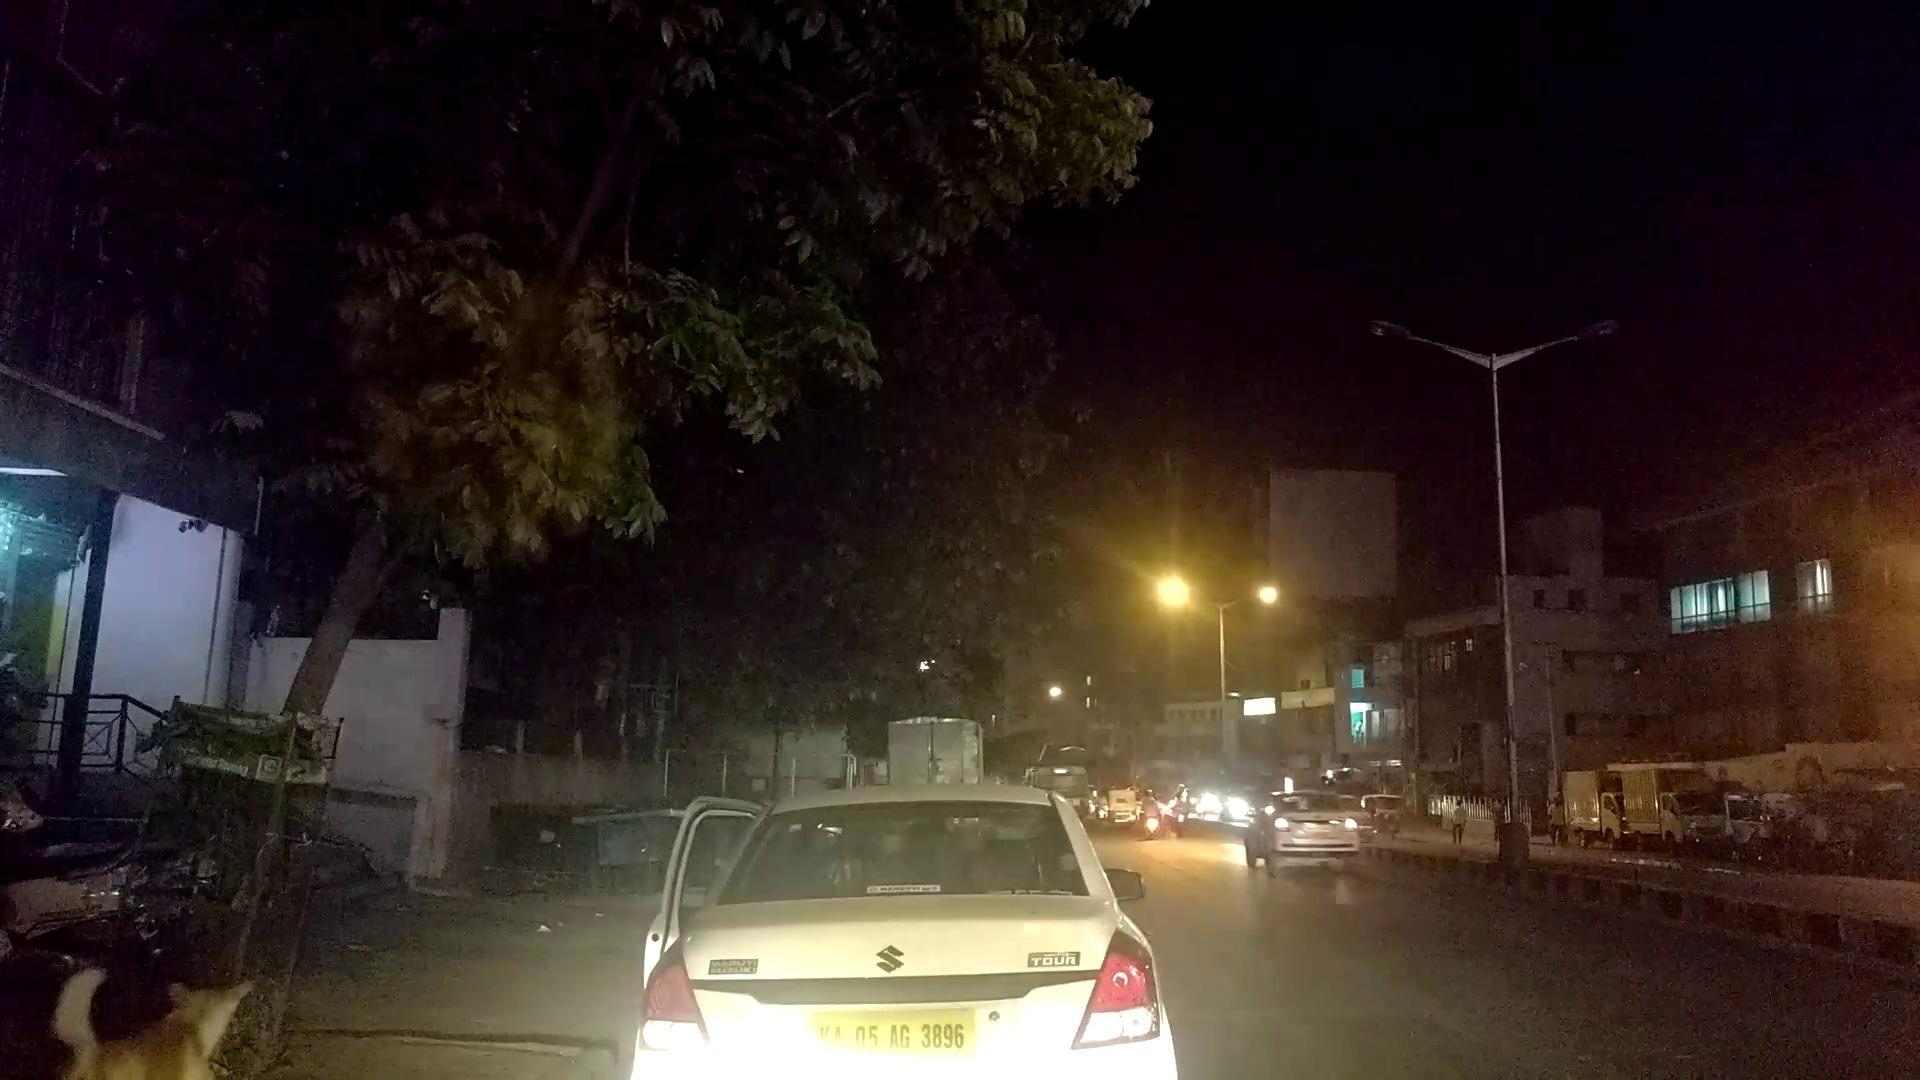on: (949, 322, 1598, 931)
